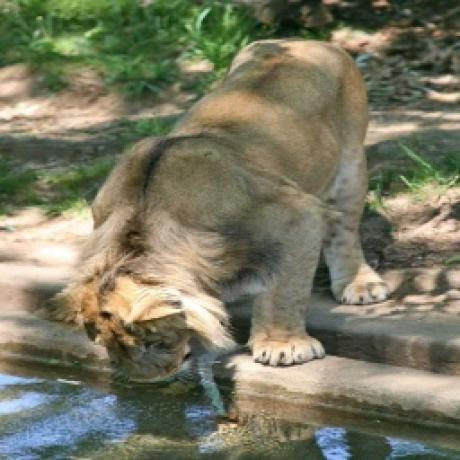Lion: (36, 36, 393, 386)
